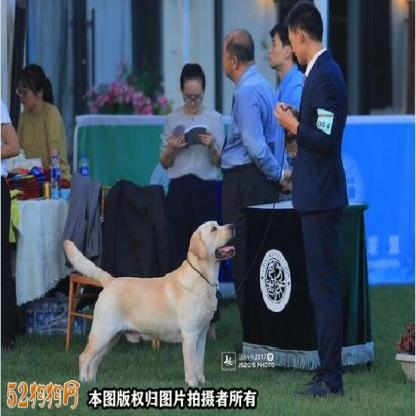Labarador Retriever: (58, 218, 234, 388)
